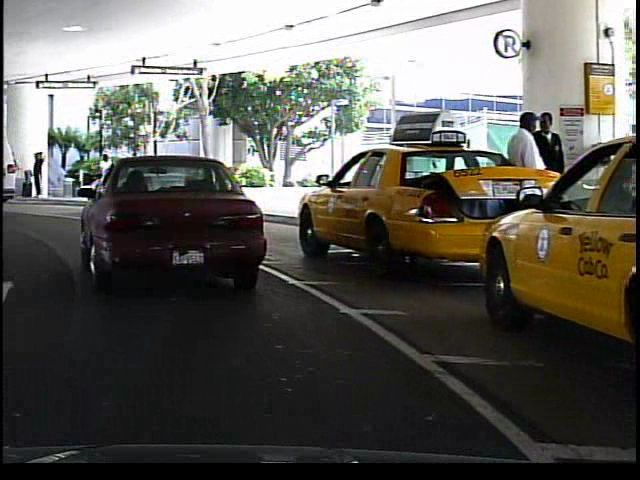person: (502, 108, 548, 251), (531, 108, 573, 246), (91, 150, 116, 196), (27, 144, 45, 202)
